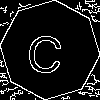C: (25, 25, 66, 75)
